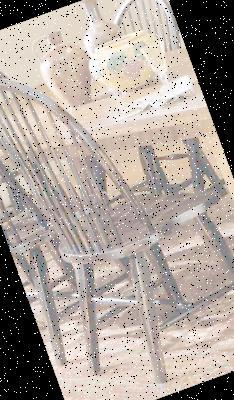Silla: (0, 21, 233, 399)
